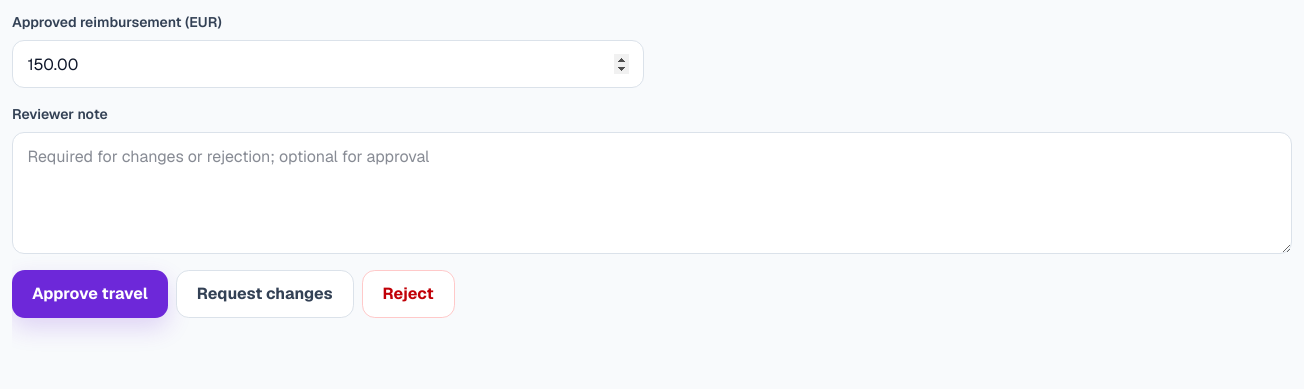
Scenario: TravelReviewForm › shows a success message when review saves
Click the button "Approve travel" at [90, 294], box [12,270,168,318]
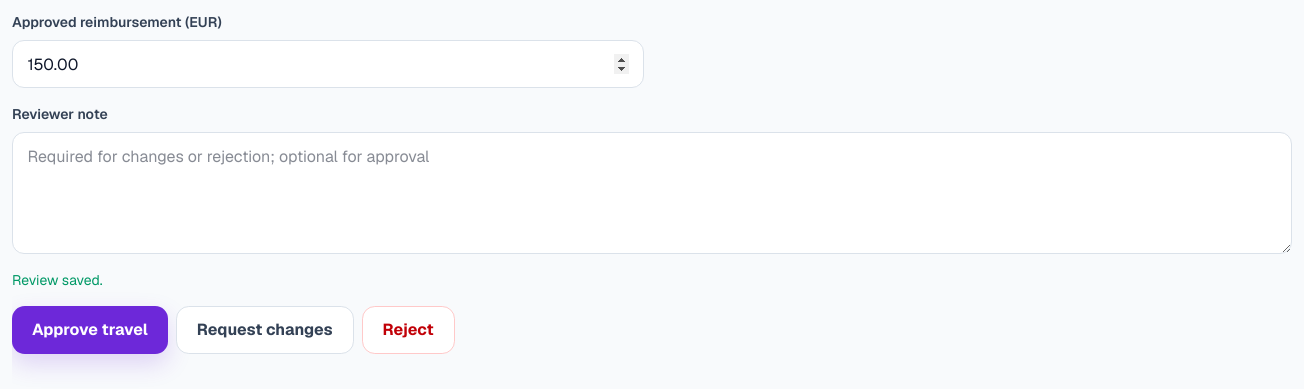
Result: the message reads "Review saved." at [12,271,103,289]
